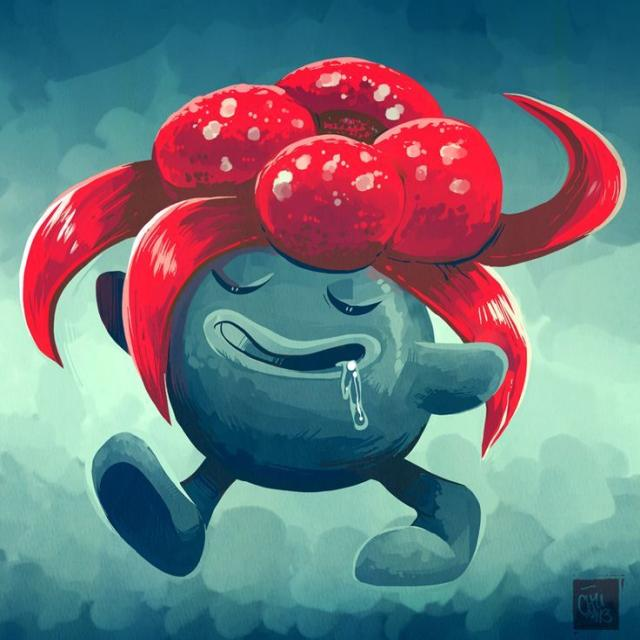Gloom: (120, 55, 506, 565)
